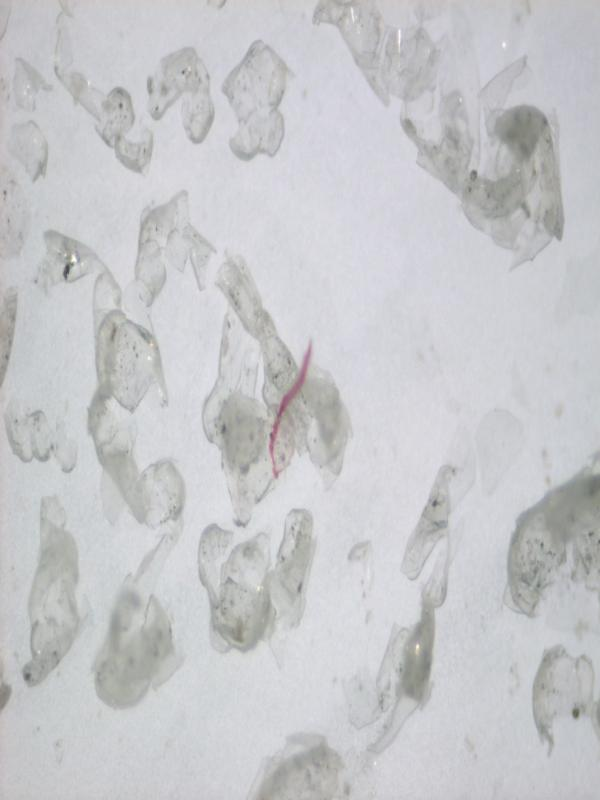microplastic: (201, 252, 353, 530), (197, 509, 317, 672), (91, 530, 186, 713), (20, 496, 91, 690)
